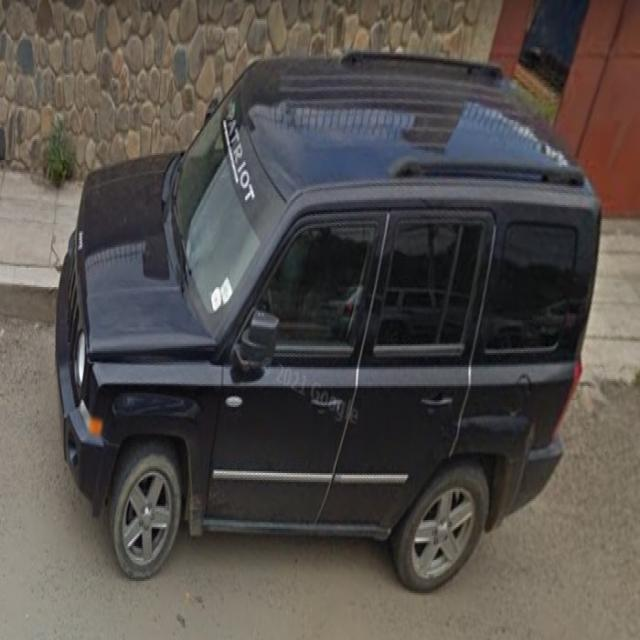Car: (54, 43, 607, 607)
